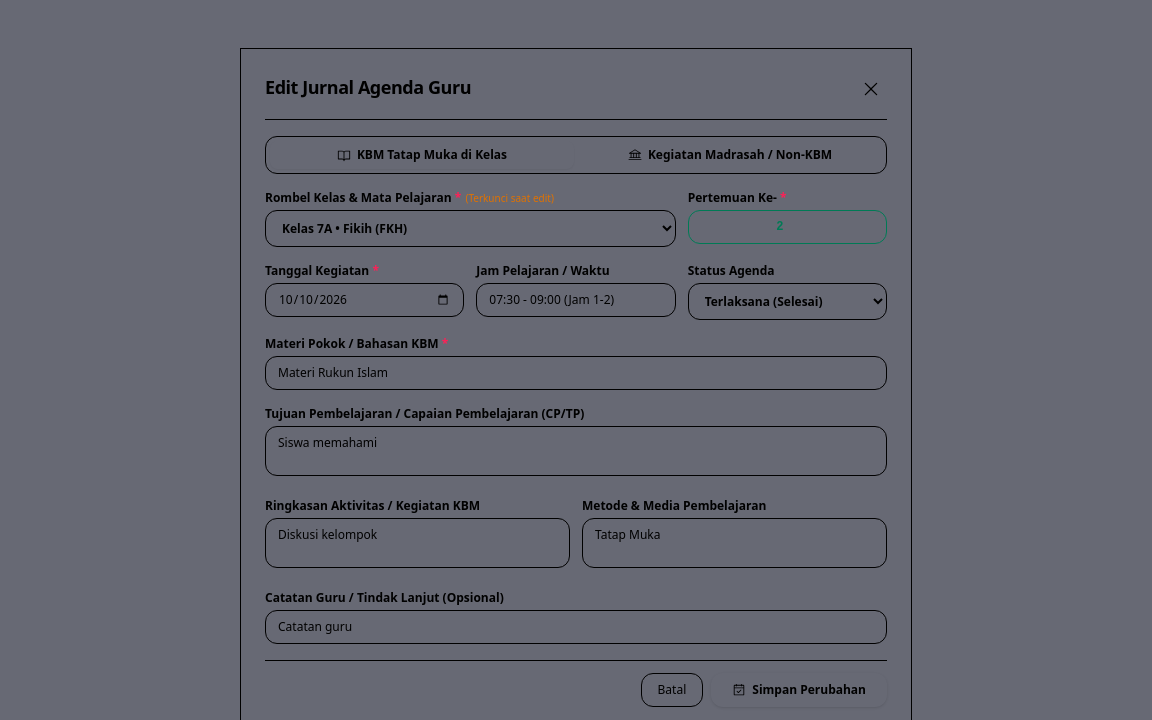
Scenario: MeetingFormModal Date Editability & Attendance Lock (Criteria 1, 2, 3, 8, 9) › MeetingFormModal Number Editing & Duplicate Error (Requirements 9 & 11) › displays clear Indonesian error when updateMeeting rejects duplicate meeting number
Replace the text in the number field showing "2" with "4" at (787, 227), box [688,210,887,244]
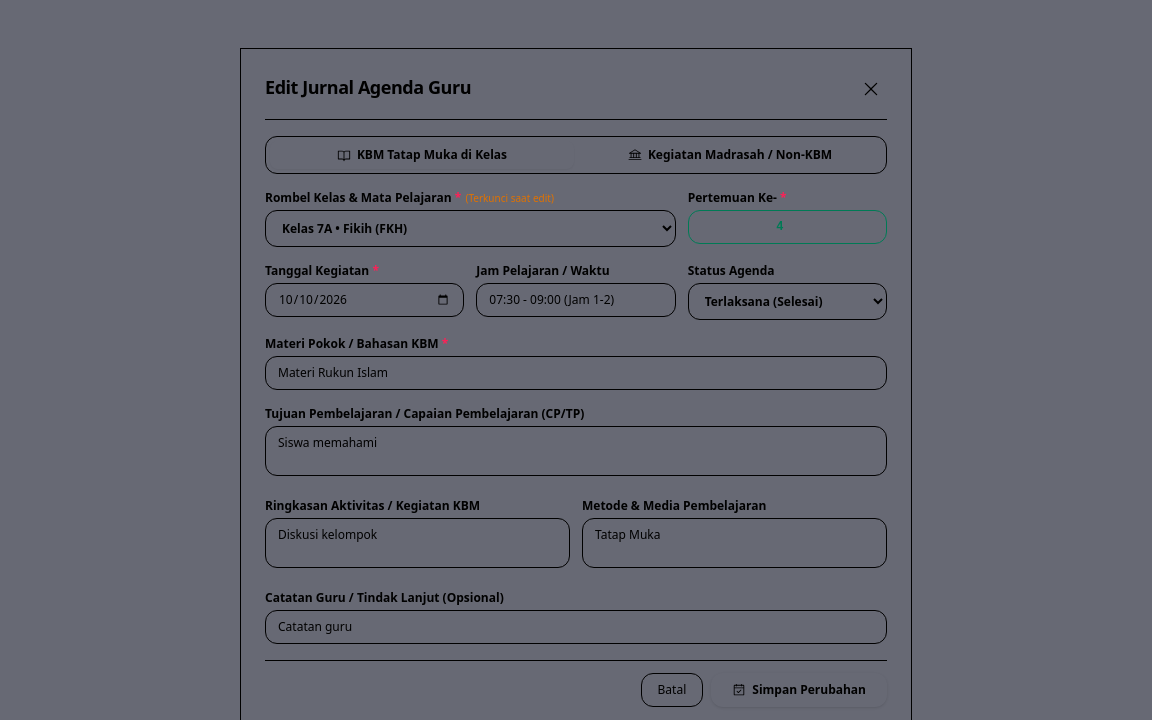
Click the button "Simpan Perubahan" at (799, 690), box [711,673,887,707]
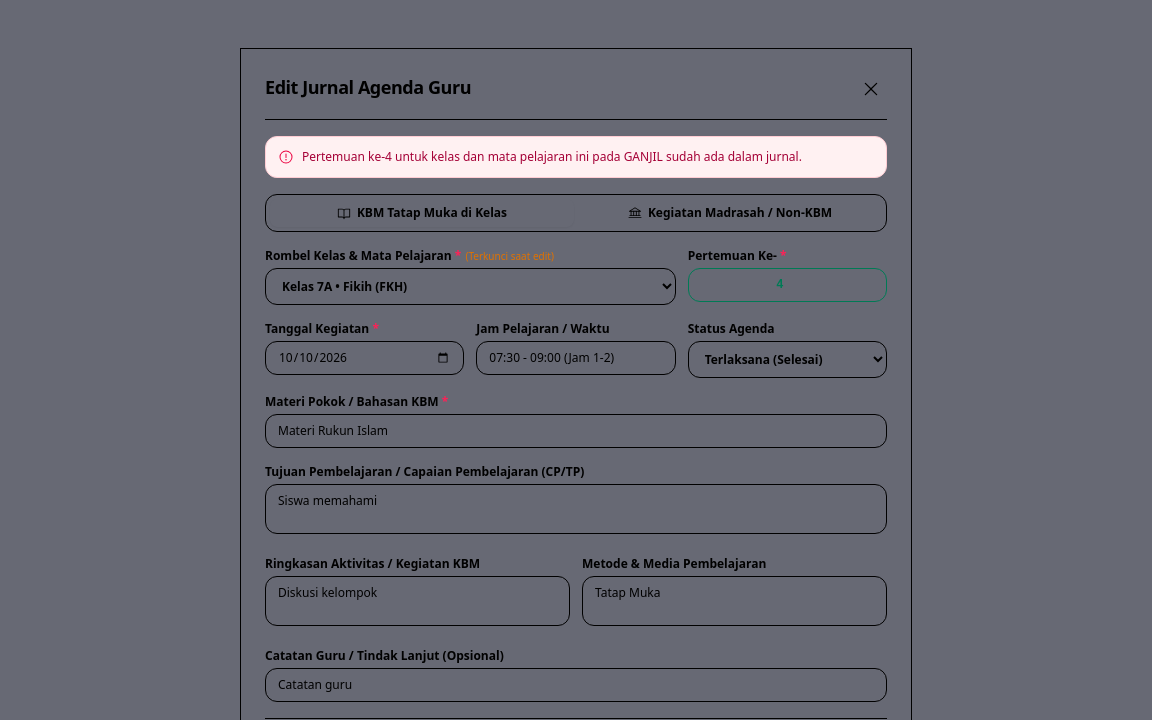
Expected: the text "Pertemuan ke-4 untuk kelas dan mata pelajaran ini pada GANJIL sudah ada dalam jurnal" is shown, [302,148,802,165]
